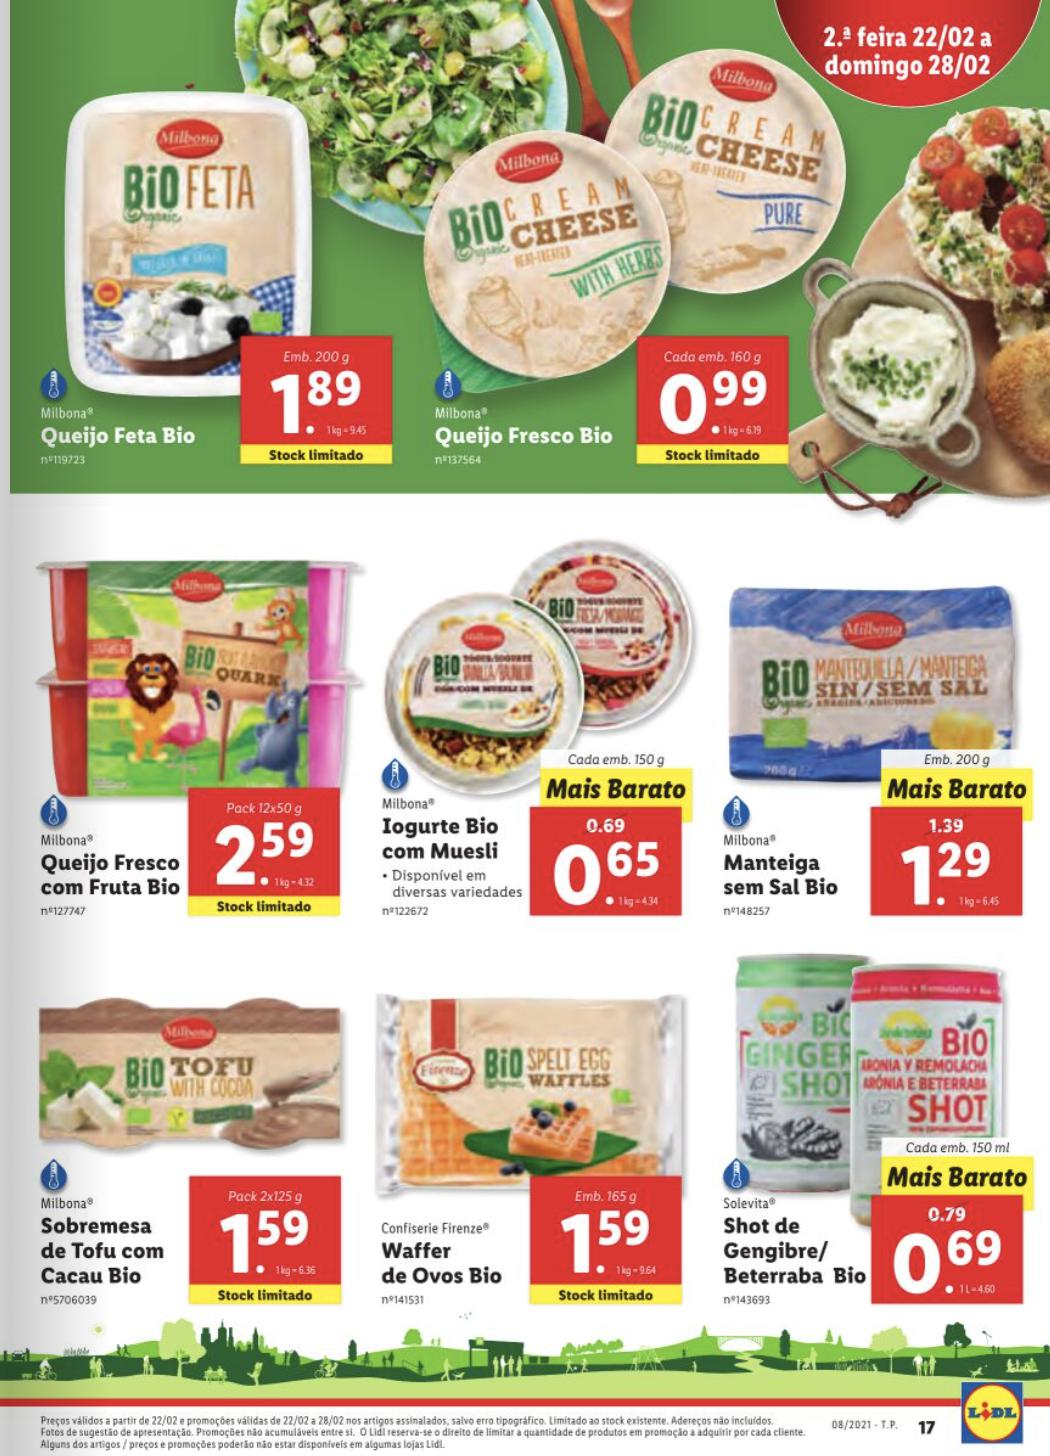name: (721, 1210, 873, 1294), (31, 1210, 172, 1289), (35, 846, 192, 903), (370, 1232, 506, 1291), (717, 851, 847, 903), (381, 814, 507, 867), (432, 423, 615, 452), (40, 421, 206, 452)
price: (647, 365, 776, 449), (550, 834, 670, 916), (270, 367, 375, 443), (897, 1231, 1006, 1302), (219, 1203, 315, 1283), (210, 816, 312, 892), (897, 838, 993, 916), (555, 1207, 654, 1280)
product: (23, 94, 401, 491), (410, 123, 819, 482), (21, 534, 370, 931), (705, 541, 1041, 951), (372, 545, 705, 951), (354, 978, 714, 1320), (19, 969, 354, 1321), (726, 950, 1032, 1311)
